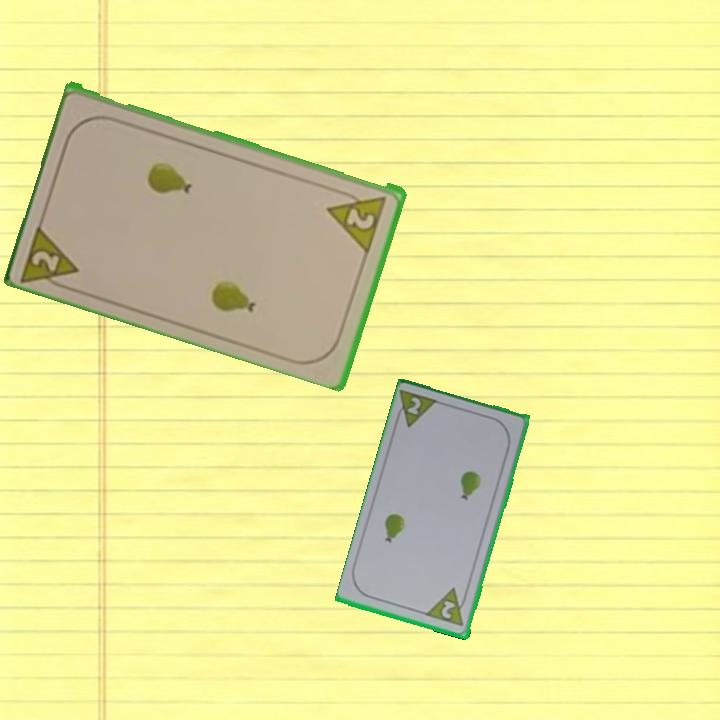2p: (17, 218, 83, 294), (391, 387, 443, 431), (424, 585, 471, 630), (343, 203, 378, 233)
